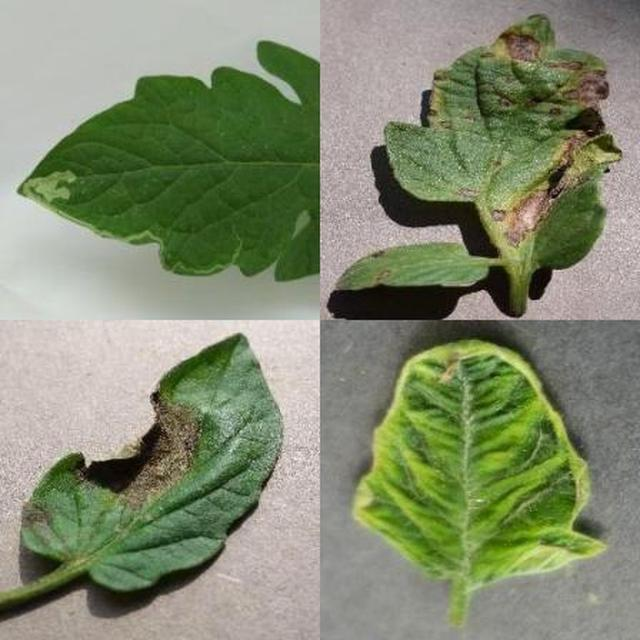Leaf Miner: (220, 204, 640, 640)
